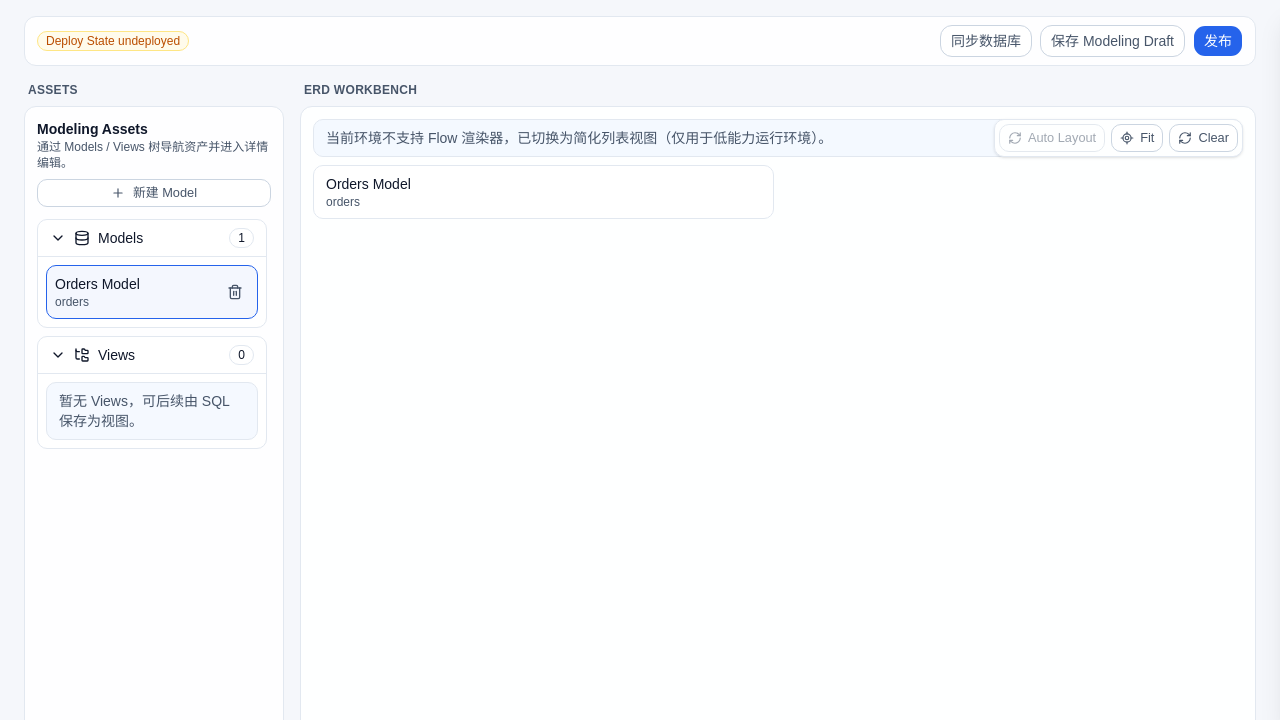
Scenario: ModelingWorkspacePage › loads metadata preview for selected model
The image size is (1280, 720).
Click the button with aria-label "选择 model Orders Model" at (134, 292), box [55,274,213,310]
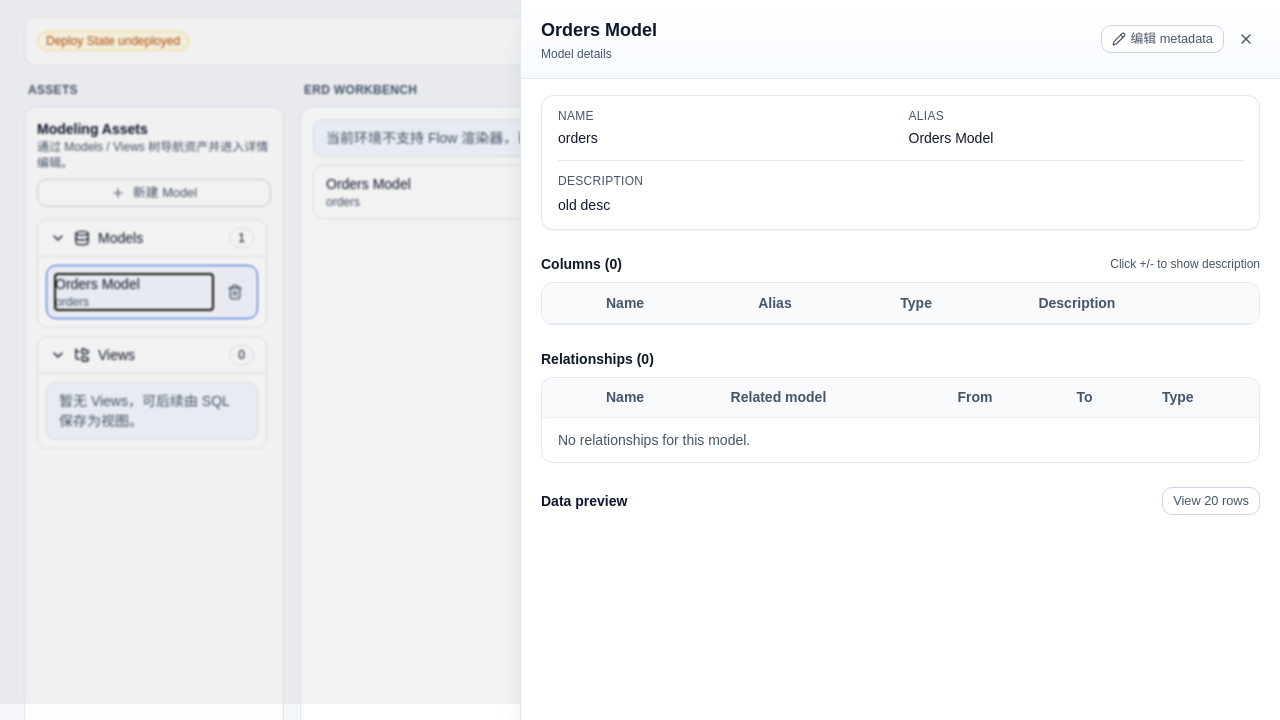
Click the button "View 20 rows" at (1211, 501), box [1162,487,1260,515]
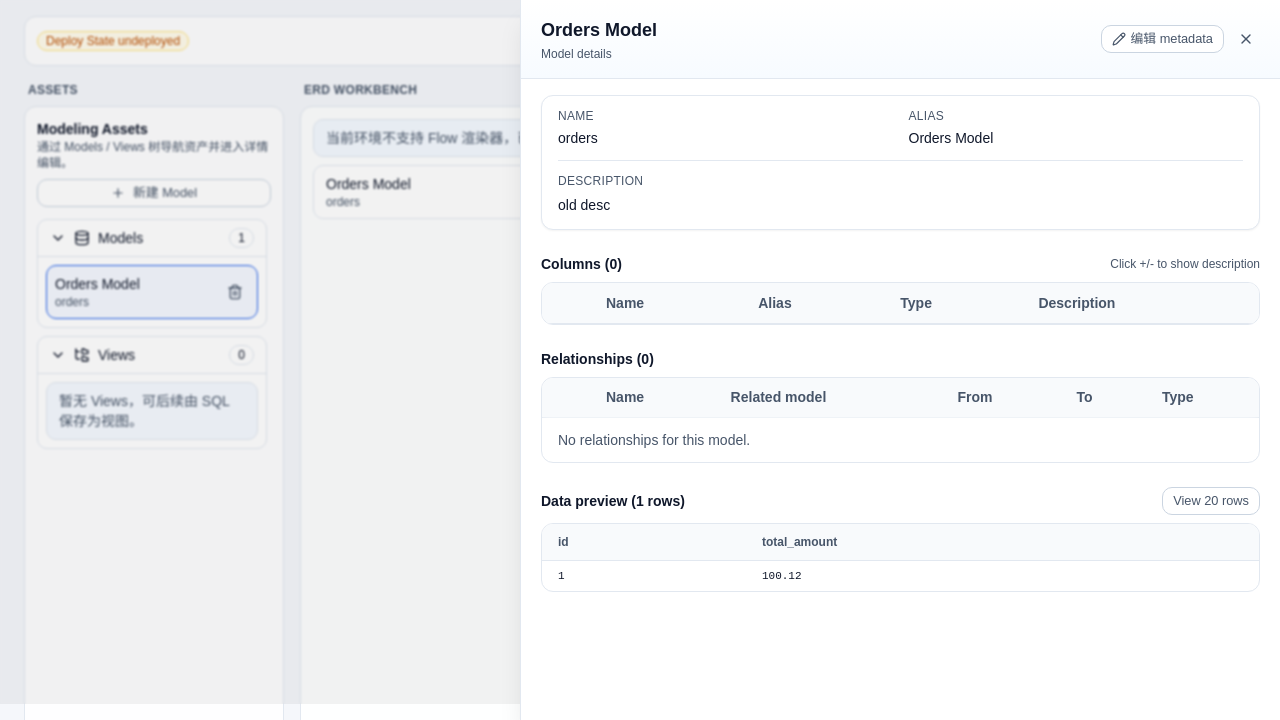
Now the text "Data preview (1 rows)" is shown, box [541,491,685,511]
Now the text "100.12" is shown, box [746,560,1259,591]
